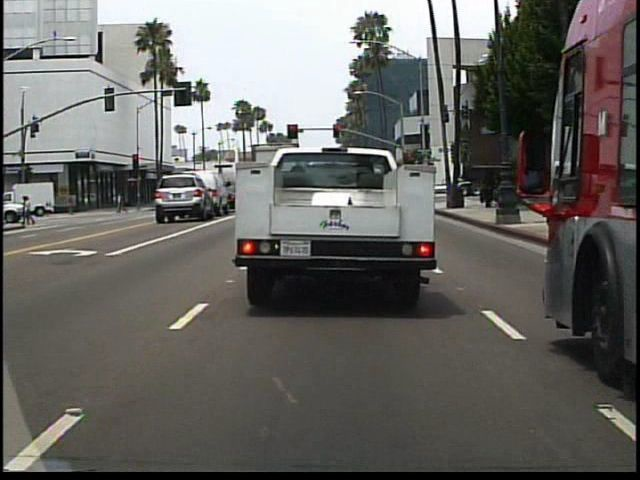person: (67, 190, 81, 218)
